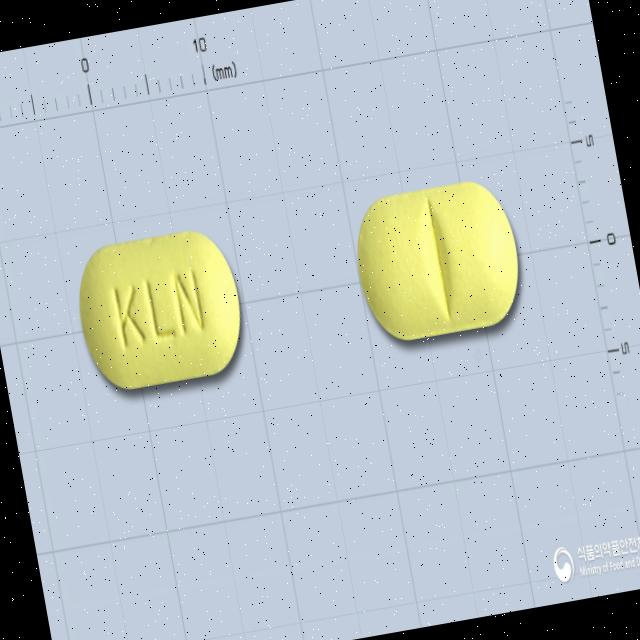Clarith: (65, 220, 254, 402), (344, 172, 532, 350)
